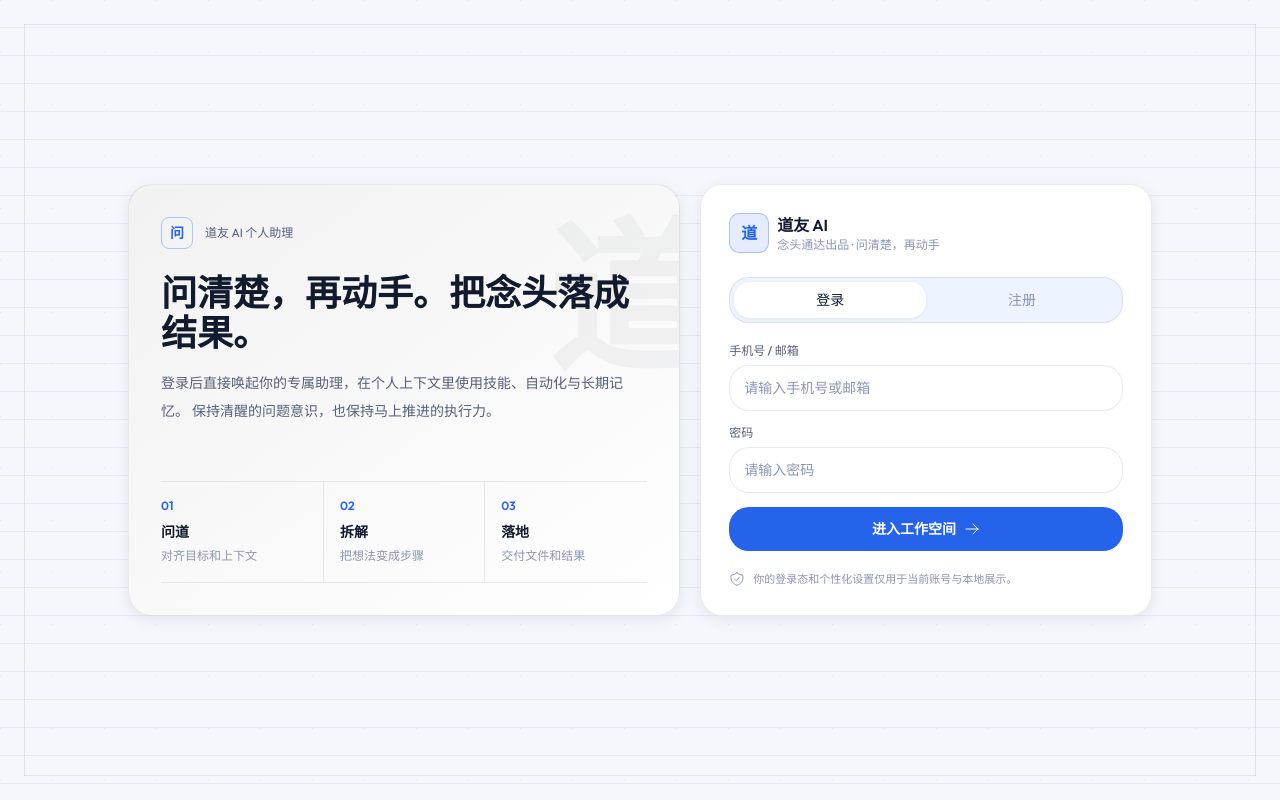
Test: LoginPage › asks for an invite code when registration is invite-only
Click the button "注册". click: (1022, 300)
box: 926,282 -> 1118,318
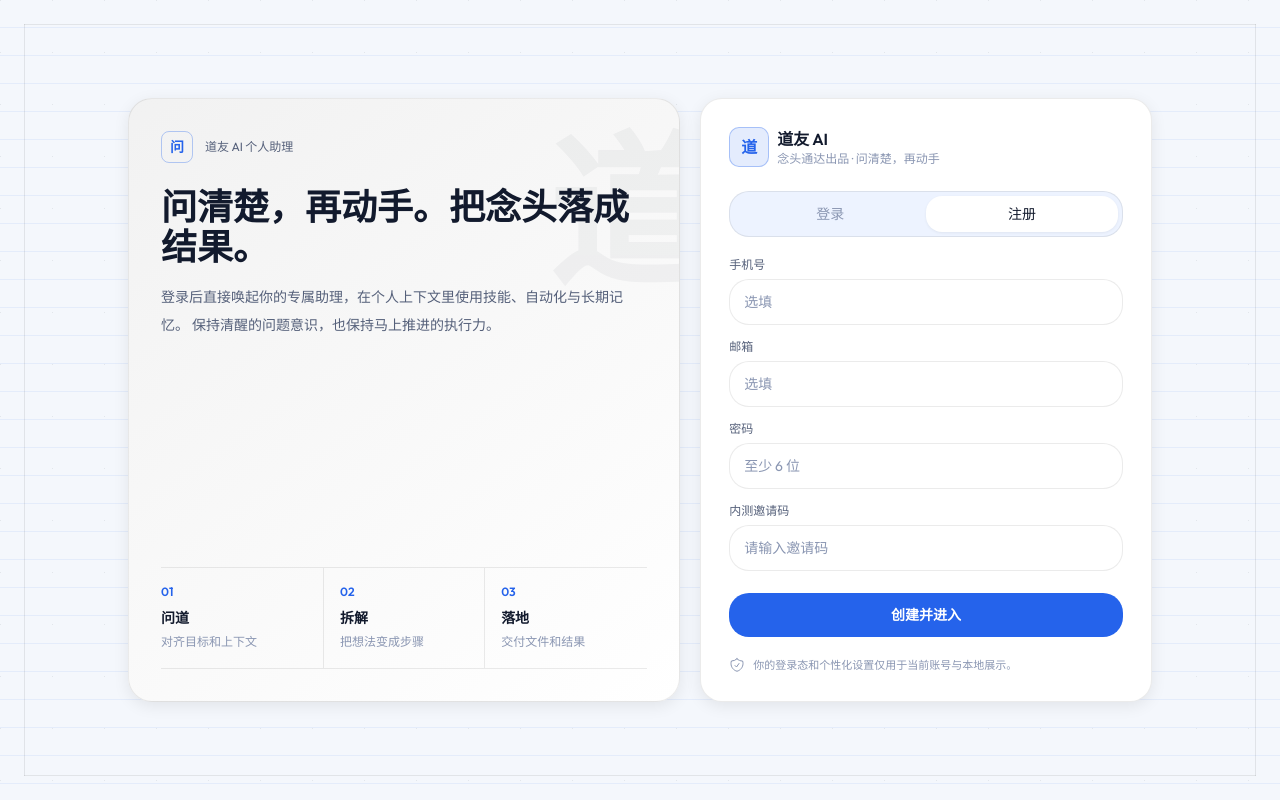
Expected: the field labelled "内测邀请码" is shown, 729,525 -> 1123,571
